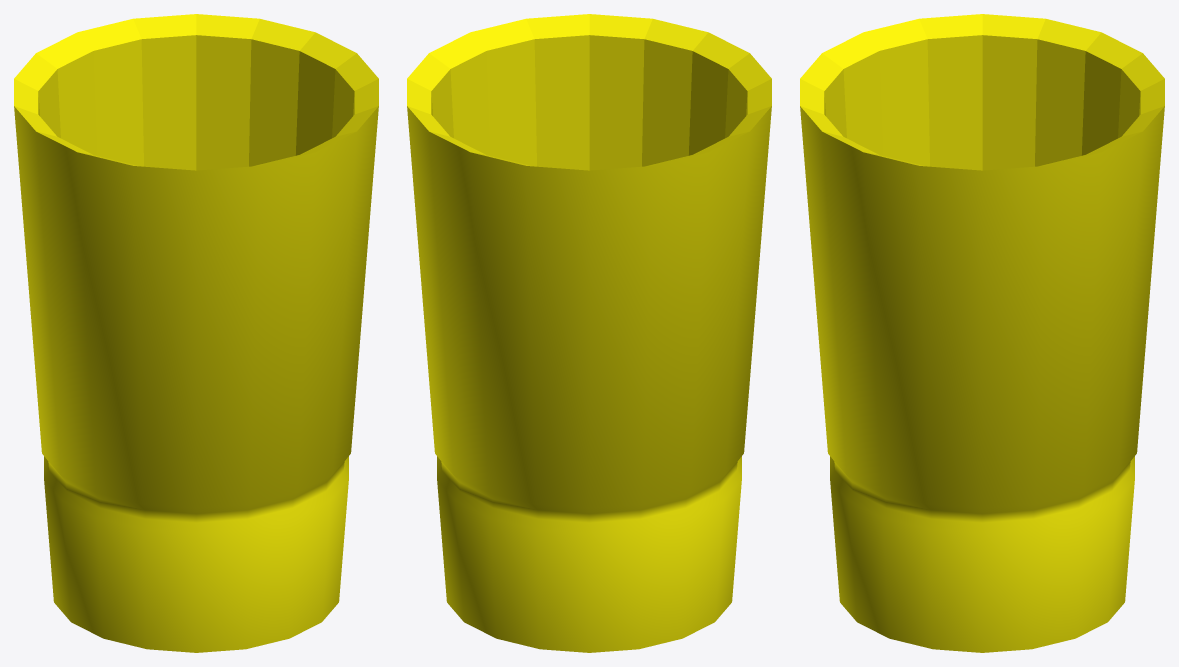
The model's file is umgebung_becher_low.FBX.
The picture shows the model from 3 angles, left to right: view 1: azimuth 30°, elevation 25°; view 2: azimuth 150°, elevation 25°; view 3: azimuth 270°, elevation 25°; orthographic projection.
Visible parts, largest first — view 1: o_becher_1_low; view 2: o_becher_1_low; view 3: o_becher_1_low.
Part boxes in pixels (left/top/right/bottom): o_becher_1_low: left=14, top=14, right=378, bottom=652; o_becher_1_low: left=407, top=14, right=771, bottom=652; o_becher_1_low: left=800, top=14, right=1164, bottom=652.
Bounding box in the file's own units: 11.21 × 11.04 × 16.67.
